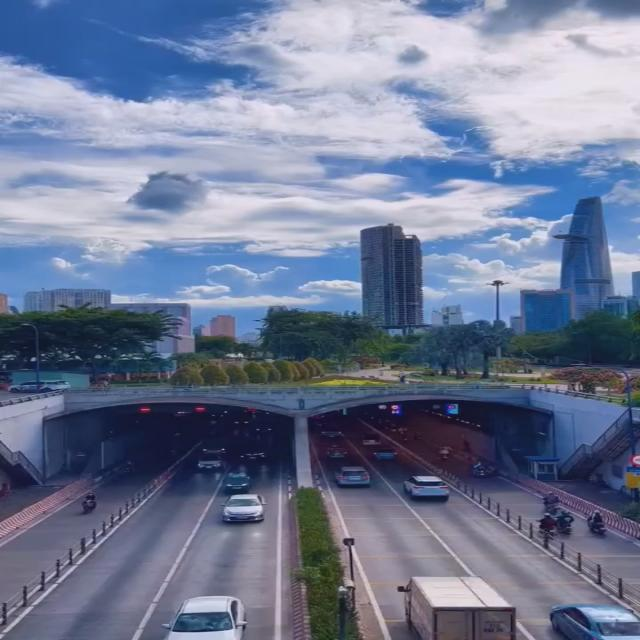car: (161, 598, 248, 640), (548, 602, 637, 640), (404, 474, 449, 503), (223, 494, 264, 523), (333, 466, 372, 486)
motorbike: (588, 510, 611, 536), (540, 490, 562, 515), (536, 512, 557, 538), (558, 512, 575, 536), (82, 491, 96, 514)
truck: (405, 573, 527, 640)
